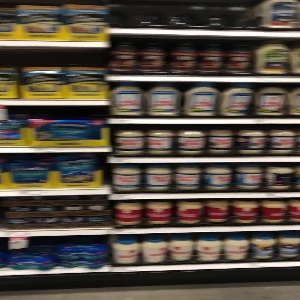void: (109, 1, 258, 31)
